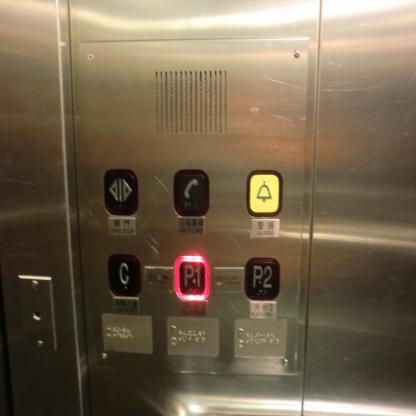C: (107, 252, 141, 297)
P1: (173, 252, 210, 303)
P2: (245, 256, 281, 302)
alarm: (245, 168, 282, 218)
call: (172, 170, 210, 218)
open: (102, 168, 139, 217)
